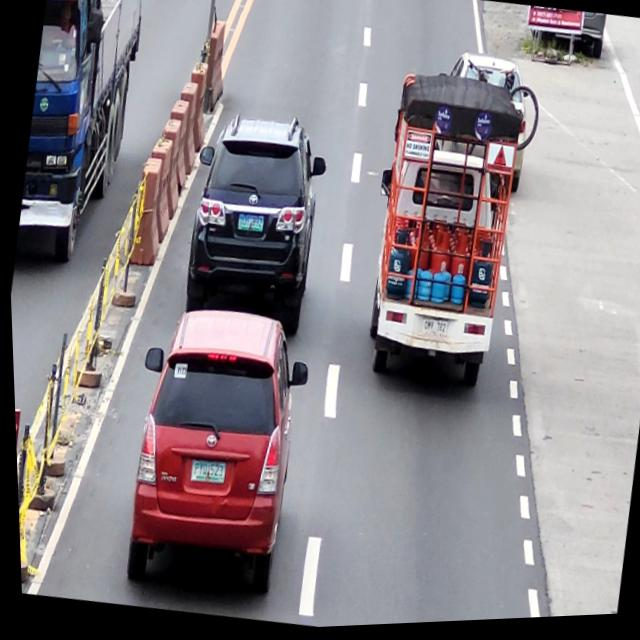Car: (107, 298, 321, 605), (170, 108, 335, 350), (431, 47, 541, 202)
License-Plate: (185, 458, 224, 488), (235, 215, 265, 239), (417, 322, 447, 342)
Truck: (348, 138, 521, 401)
